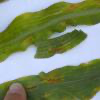Corn leaf blight: (0, 1, 100, 63), (28, 58, 100, 100)
